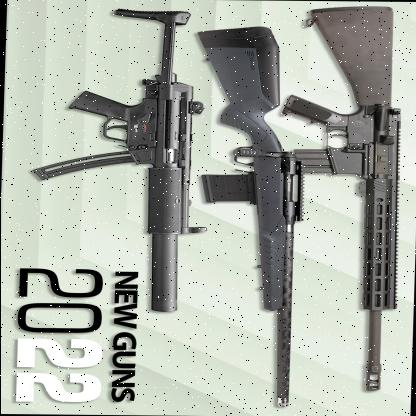rifle: (296, 6, 410, 400), (194, 23, 310, 408), (63, 9, 208, 254)
